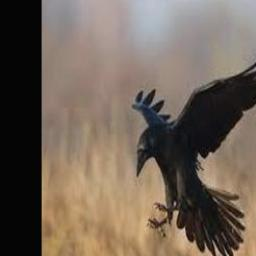Crow: (132, 49, 256, 256)
